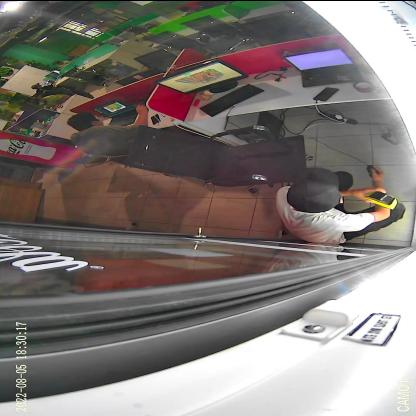yellow: (364, 190, 398, 208)
